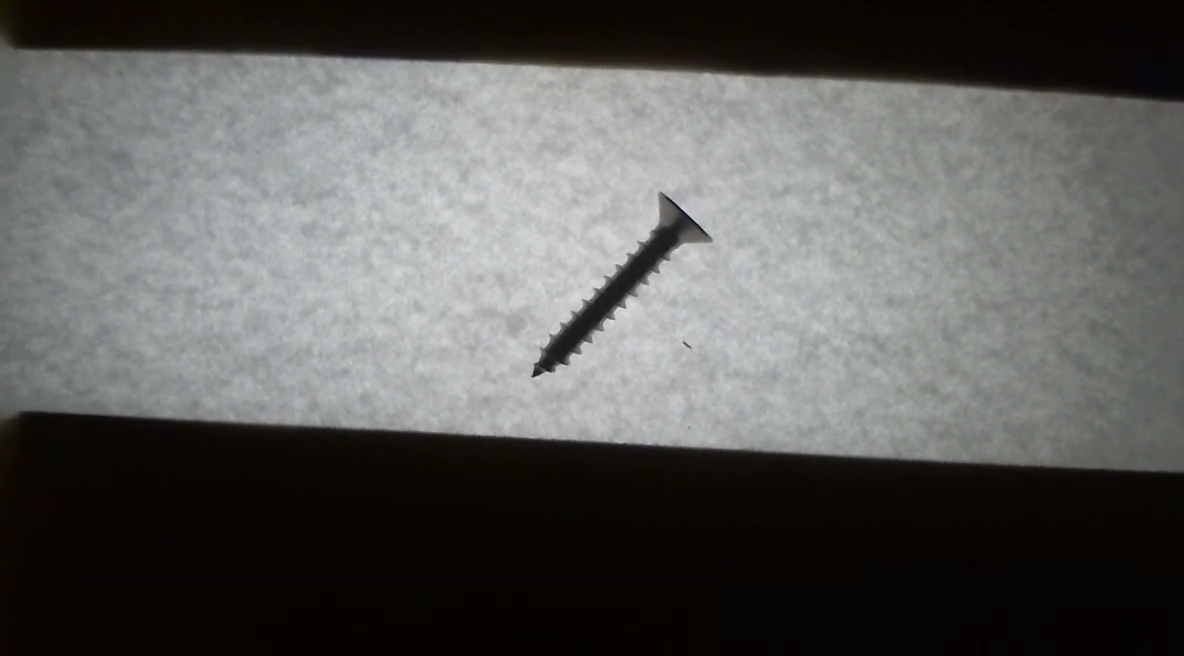S001: (487, 174, 730, 394)
